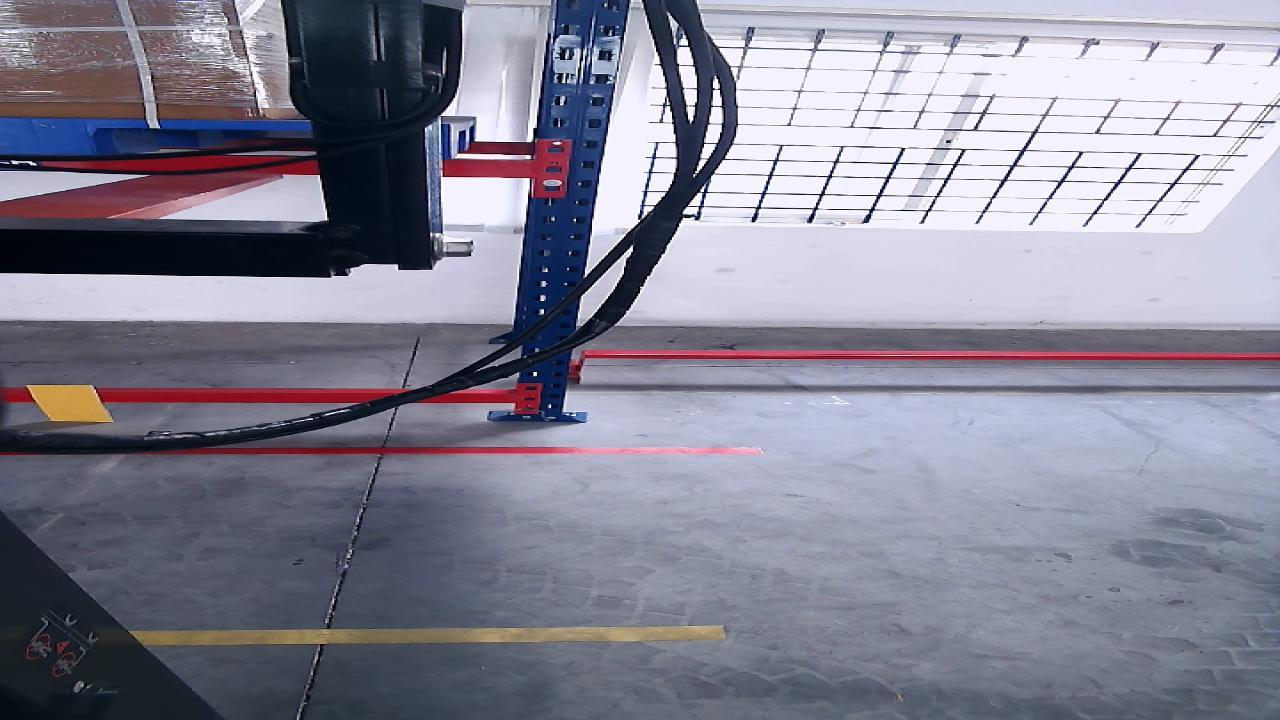h_rack: (4, 159, 524, 177), (2, 393, 513, 404)
orange_strip: (28, 385, 110, 421)
red_line: (151, 446, 759, 454)
small_pallet: (4, 119, 453, 160)
yellow_line: (135, 618, 730, 647)
